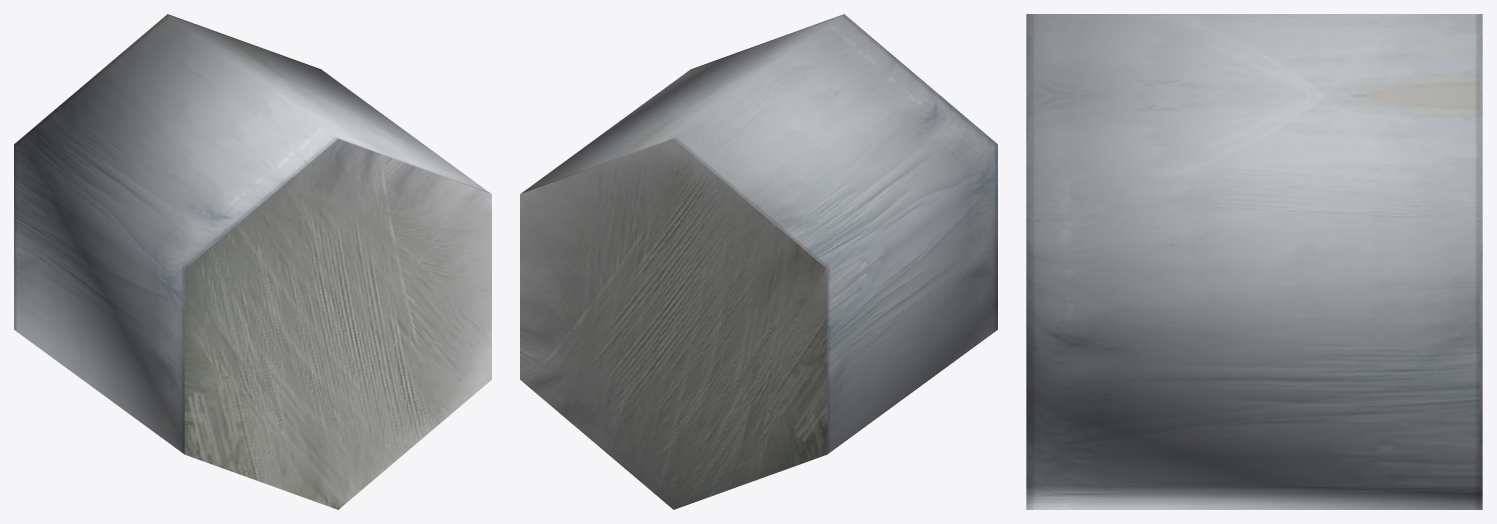
The model's file is hay-bale-plastic-cbj_LOD02.gltf.
3 renders of one model, left to right at view 1: azimuth 30°, elevation 25°; view 2: azimuth 150°, elevation 25°; view 3: azimuth 270°, elevation 25°, orthographic. The views are drawn at different scales.
Parts seen in each view (by area): view 1: Cube01.001; view 2: Cube01.001; view 3: Cube01.001.
Boxes of the visible parts, left/top/right/bottom form: Cube01.001: left=14, top=14, right=491, bottom=509; Cube01.001: left=520, top=14, right=997, bottom=509; Cube01.001: left=1026, top=14, right=1482, bottom=509.
Size of what is drawn, in the model's own units: 1.56 by 1.8 by 1.5.
